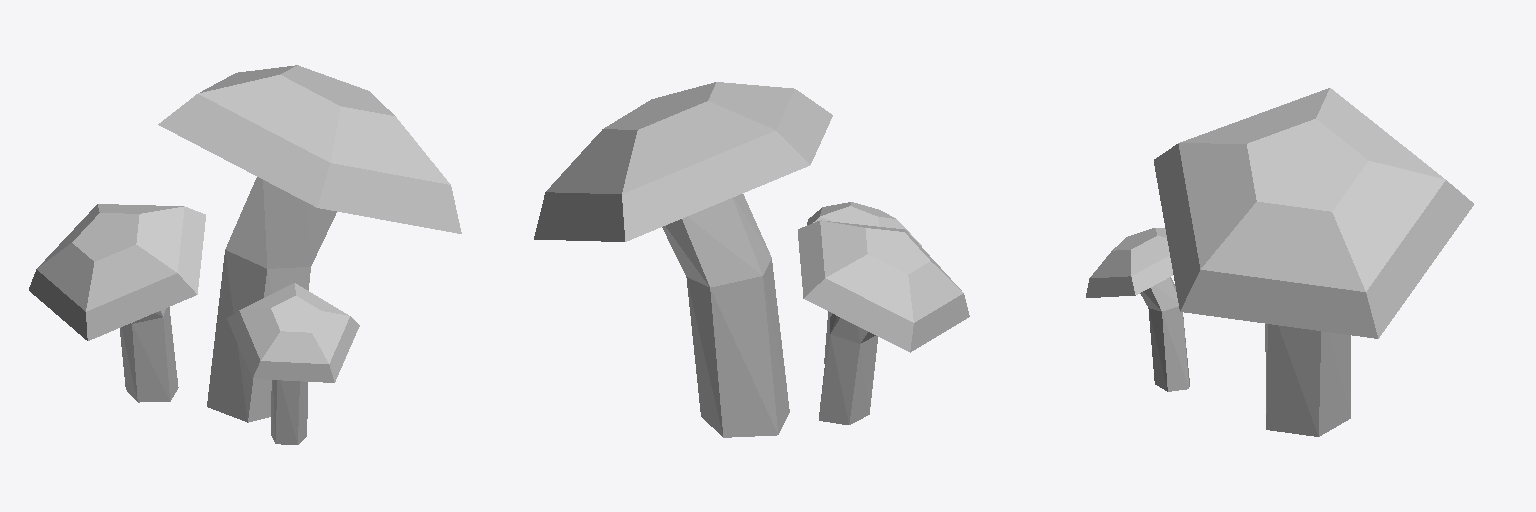
The model's file is prop_v2_7.obj.
The picture shows the model from 3 angles: view 1: azimuth 30°, elevation 25°; view 2: azimuth 150°, elevation 25°; view 3: azimuth 270°, elevation 25°; orthographic projection.
Visible parts, largest first — view 1: prop_v2_7_Cylinder; view 2: prop_v2_7_Cylinder; view 3: prop_v2_7_Cylinder.
Part boxes in pixels (x1,y1,x2,y2): prop_v2_7_Cylinder: (29,65,461,444); prop_v2_7_Cylinder: (534,82,969,437); prop_v2_7_Cylinder: (1086,88,1473,436).
Bounding box in the file's own units: 0.1812 × 0.1477 × 0.165.